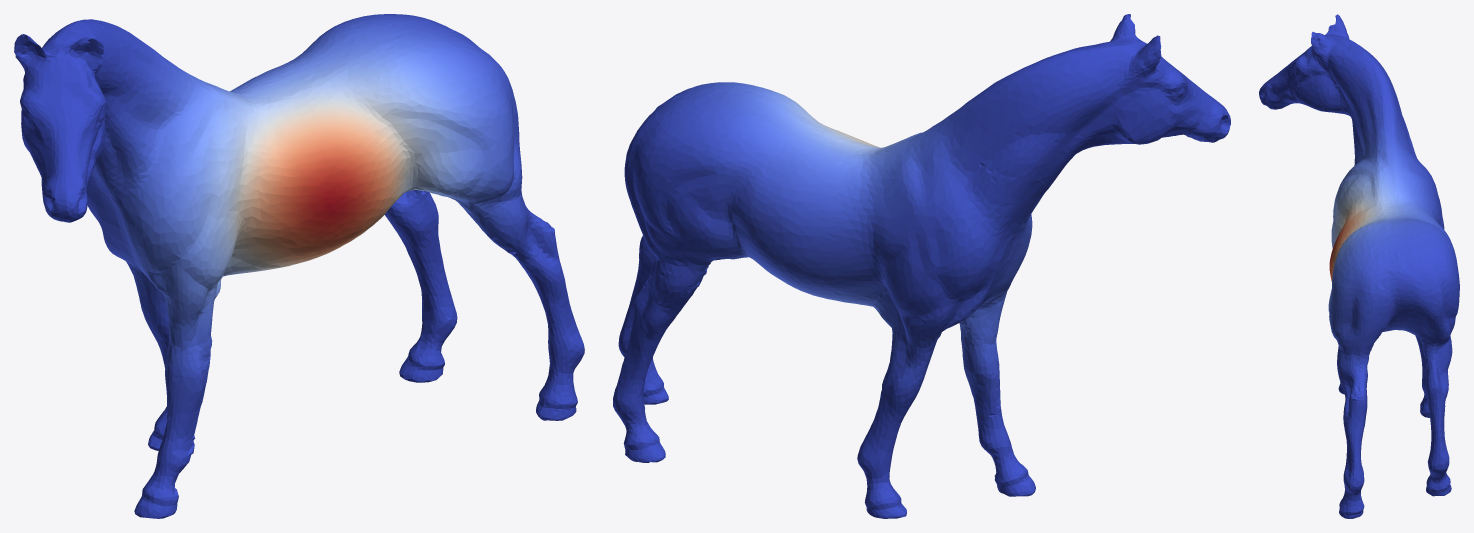
The model's file is gamma0.01.obj.
3 renders of one model, left to right at view 1: azimuth 30°, elevation 25°; view 2: azimuth 150°, elevation 25°; view 3: azimuth 270°, elevation 25°, orthographic. The views are drawn at different scales.
Bounding box in the file's own units: 0.1834 × 0.1529 × 0.084.
1 material, 1 textured.
